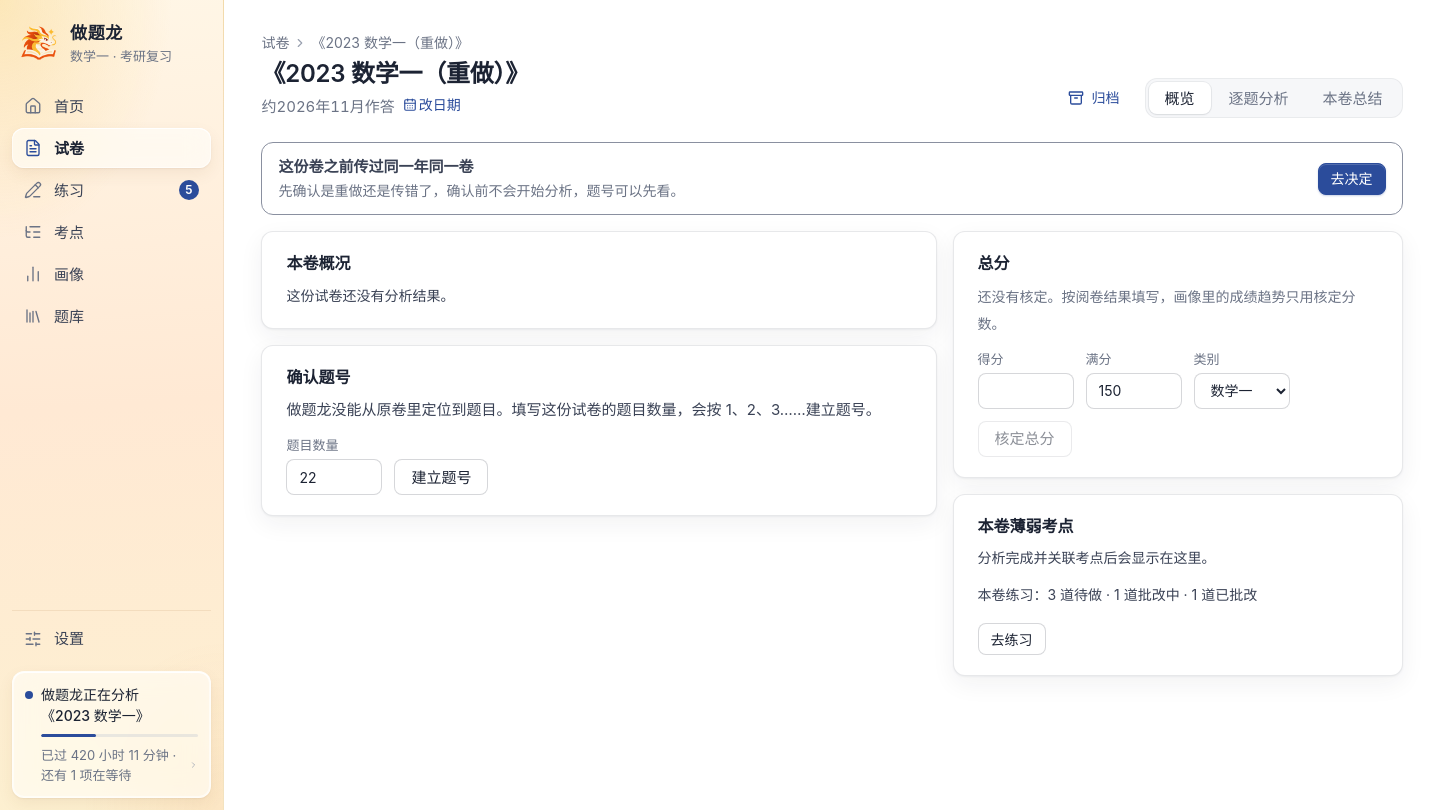
can postpone the decision; the paper detail hides analysis and re-reads on a conflict
Click the button "去决定" at [1352, 179], box left=1318, top=163, right=1386, bottom=195
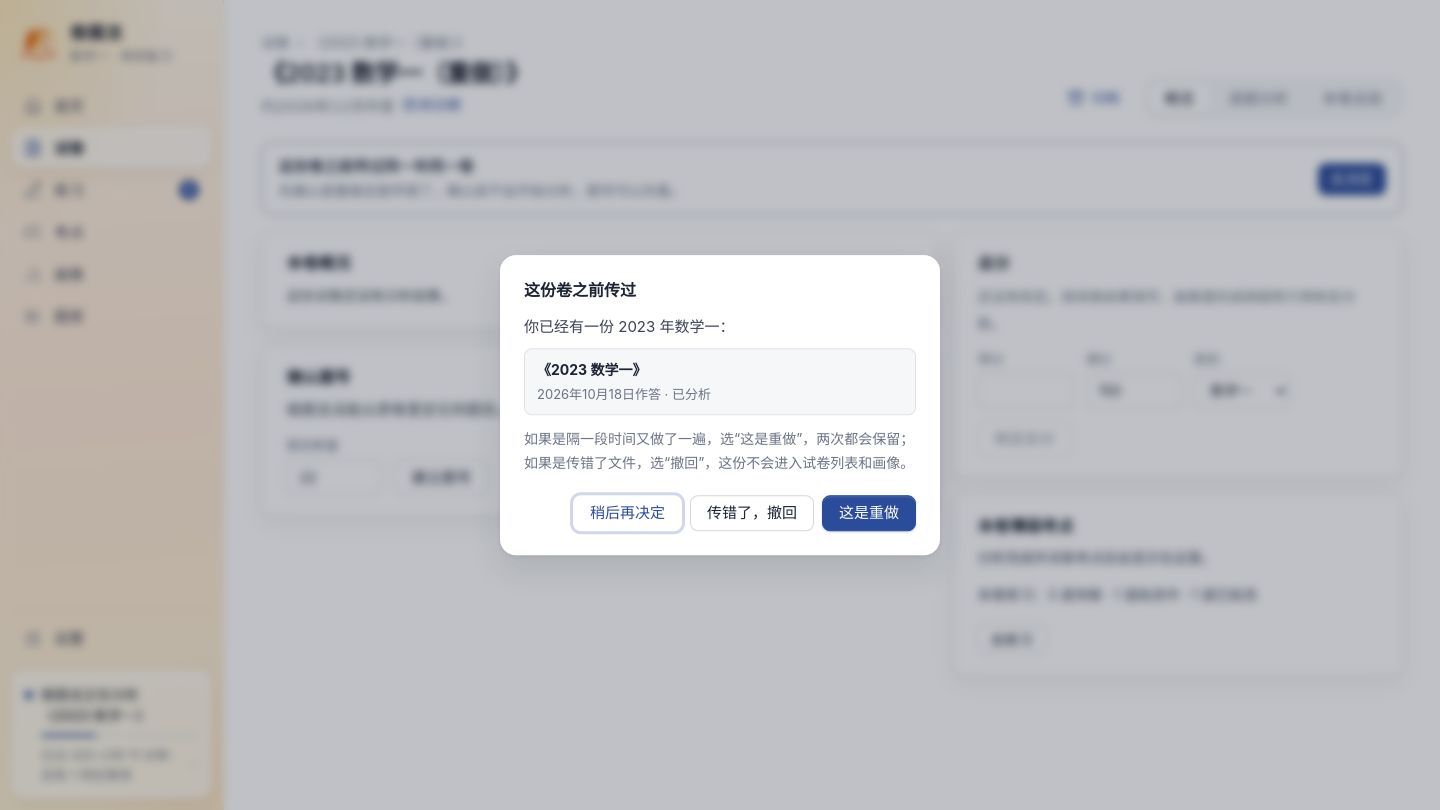
Click the button "稍后再决定" at [628, 513], box left=573, top=495, right=682, bottom=531
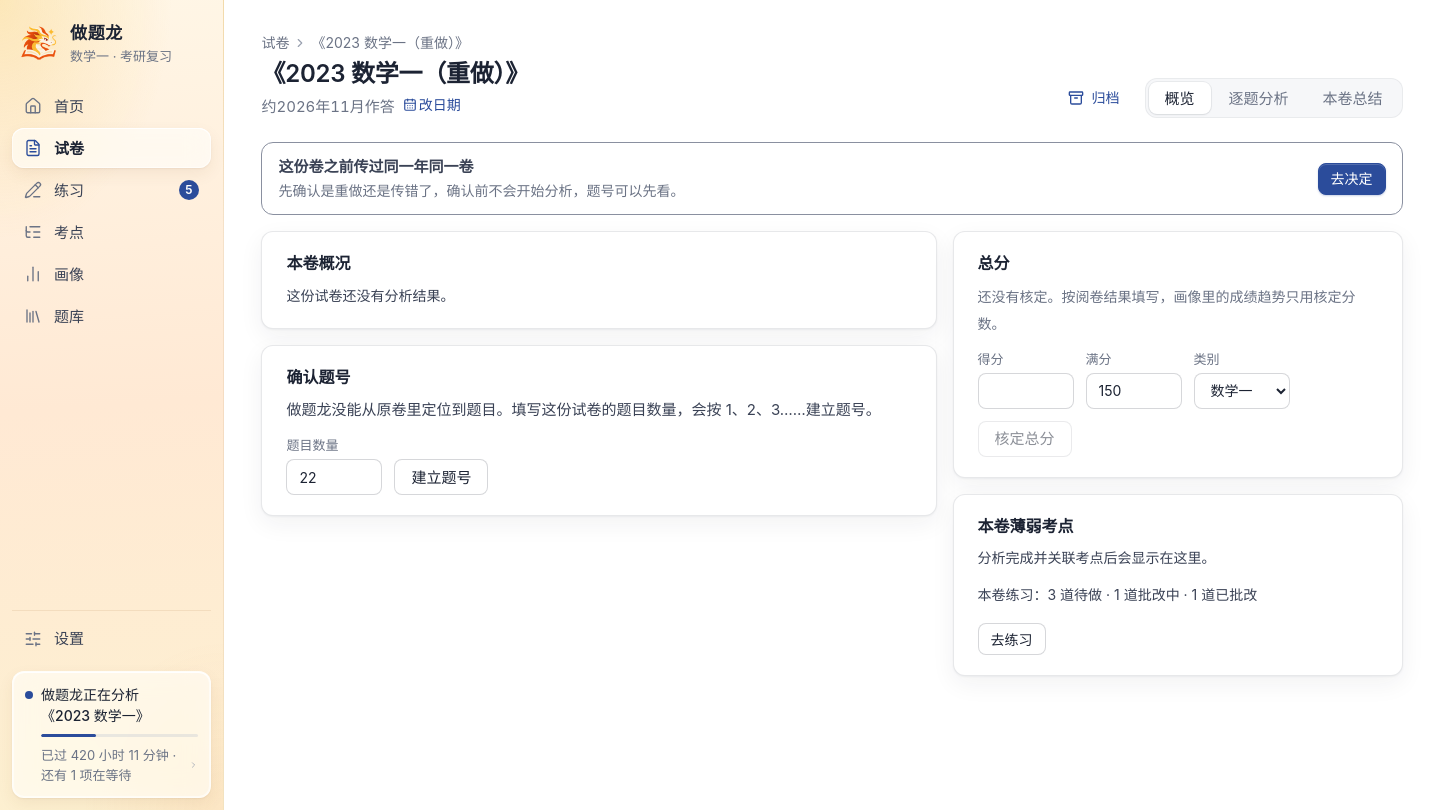
Expected: the dialog is gone
Click the button "去决定" at [1352, 179], box left=1318, top=163, right=1386, bottom=195
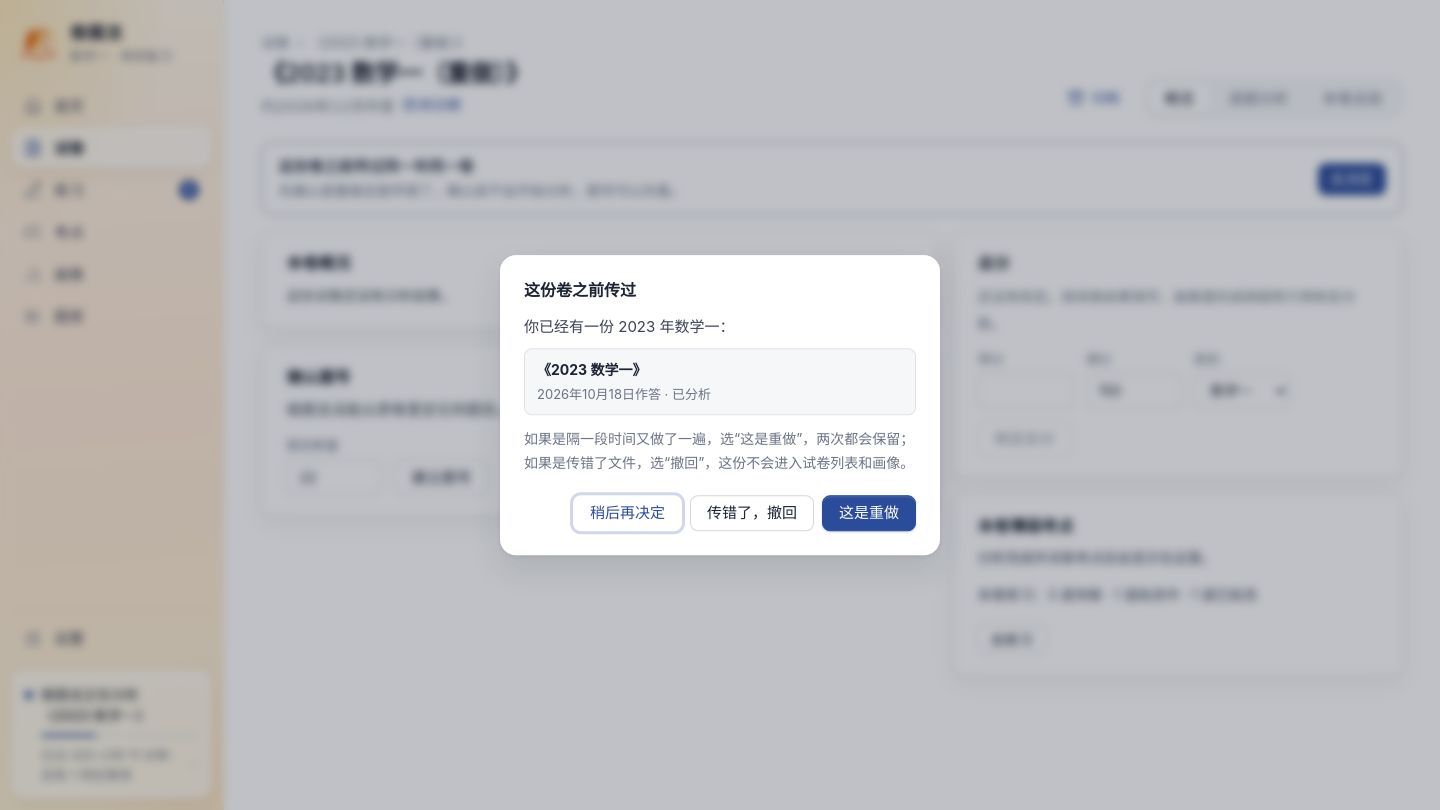
Click the button "传错了，撤回" at [752, 513], box left=690, top=495, right=814, bottom=531
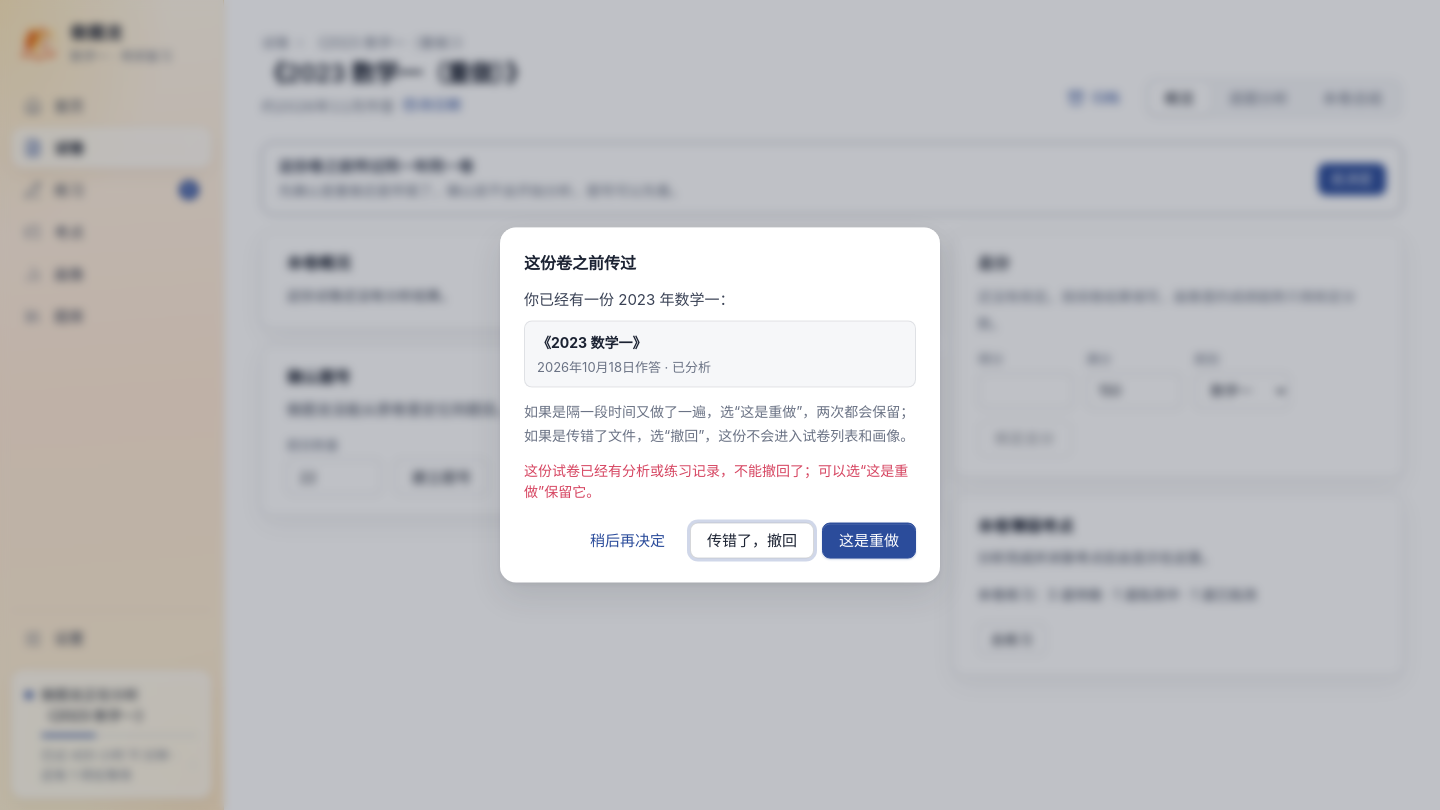
Expected: the text "这份试卷已经有分析或练习记录，不能撤回了；可以选“这是重做”保留它。" is shown, left=524, top=459, right=916, bottom=502
